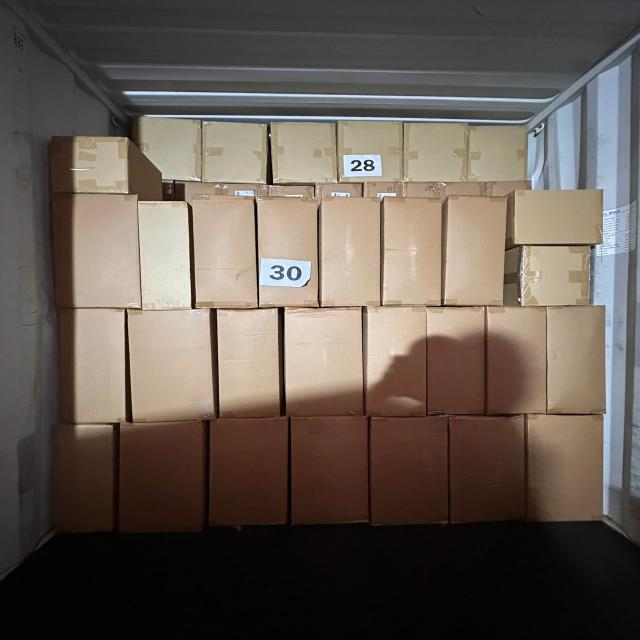Carton: (49, 194, 140, 312), (117, 420, 207, 539), (132, 308, 217, 424), (208, 417, 288, 534), (368, 416, 446, 532), (290, 416, 367, 532), (287, 306, 367, 417), (527, 414, 606, 526), (451, 415, 528, 528), (56, 309, 126, 426), (50, 424, 115, 538), (192, 200, 256, 312), (364, 305, 426, 420), (217, 308, 280, 421), (444, 193, 506, 306), (322, 195, 384, 307), (488, 306, 550, 417), (259, 196, 319, 308), (429, 306, 488, 418), (381, 196, 441, 306), (548, 306, 606, 417), (138, 201, 191, 312), (515, 189, 604, 246), (45, 134, 127, 193), (520, 246, 592, 309), (137, 116, 205, 182), (202, 121, 267, 184), (270, 120, 336, 182), (337, 120, 402, 181), (403, 122, 466, 183), (468, 123, 528, 180)
